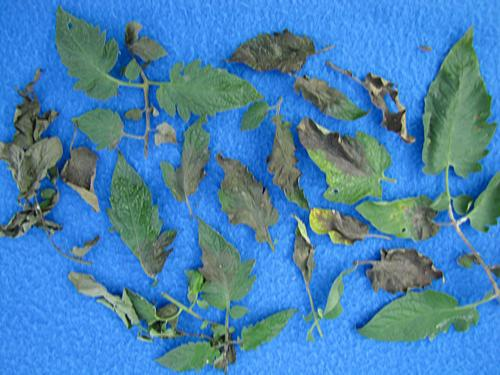Tomato leaf late blight: (415, 26, 500, 189), (298, 108, 397, 205), (105, 156, 177, 281), (154, 63, 279, 119), (193, 220, 259, 315), (215, 158, 281, 251), (261, 115, 316, 213), (166, 117, 217, 213), (290, 72, 379, 125), (358, 193, 444, 246), (233, 309, 299, 349)
